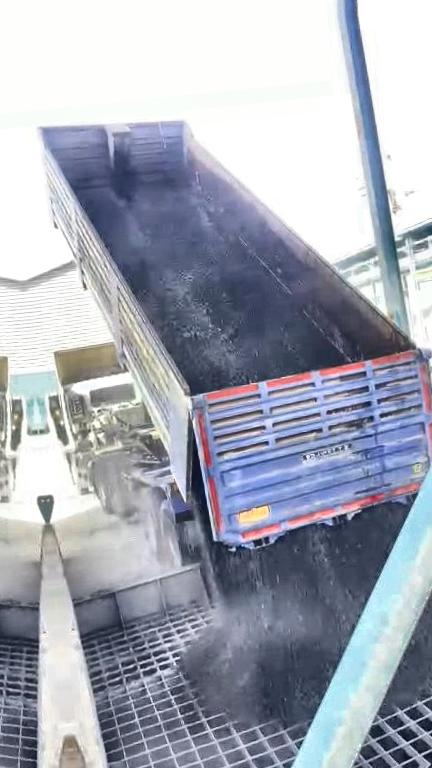gravel: (78, 180, 345, 393), (186, 505, 407, 724), (387, 550, 432, 705)
